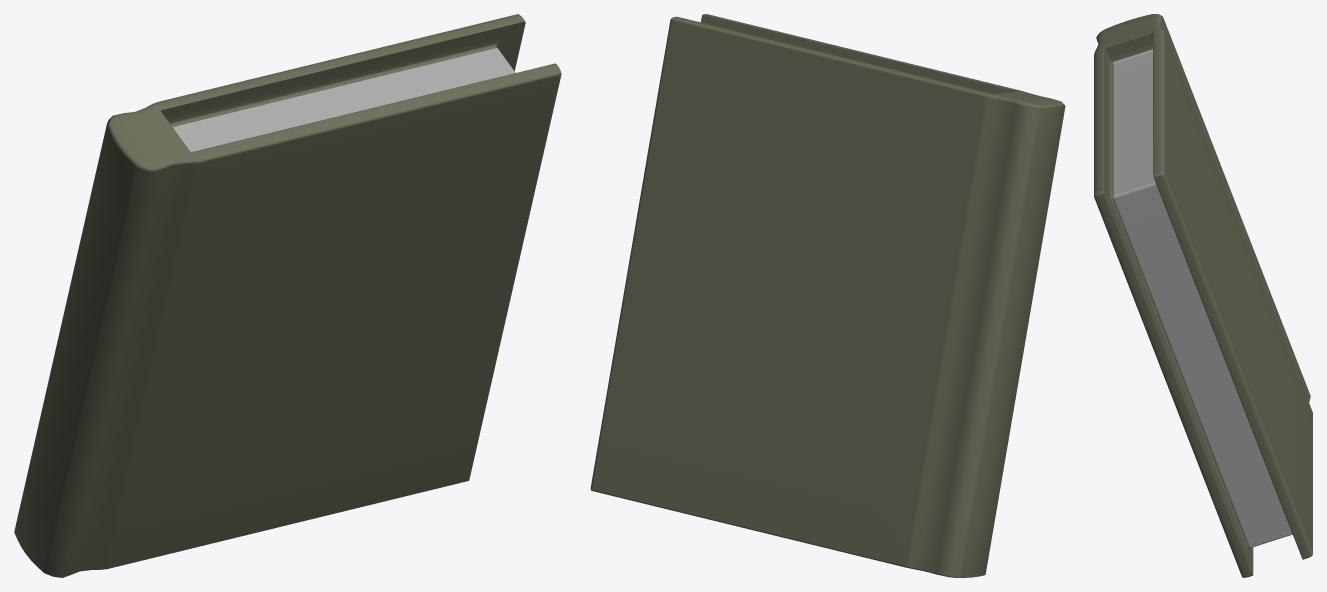
Rendered from book3.fbx.
3 views of the same model, side by side, from view 1: azimuth 30°, elevation 25°; view 2: azimuth 150°, elevation 25°; view 3: azimuth 270°, elevation 25° (orthographic). The views are drawn at different scales.
Parts seen in each view (by area): view 1: pCube17; view 2: pCube17; view 3: pCube17.
Part boxes in pixels (box(x1,y1,x2,y2)): pCube17: box(14, 14, 561, 577); pCube17: box(590, 14, 1065, 577); pCube17: box(1094, 14, 1312, 577).
Bounding box in the file's own units: 3.2 × 3.64 × 1.78.
